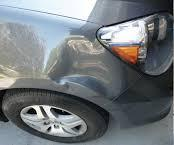dent: (40, 34, 121, 105)
